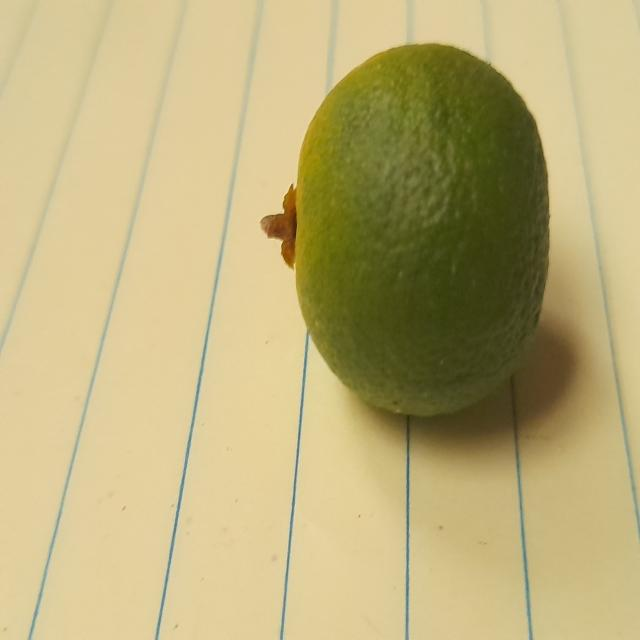heathy: (292, 42, 555, 446)
